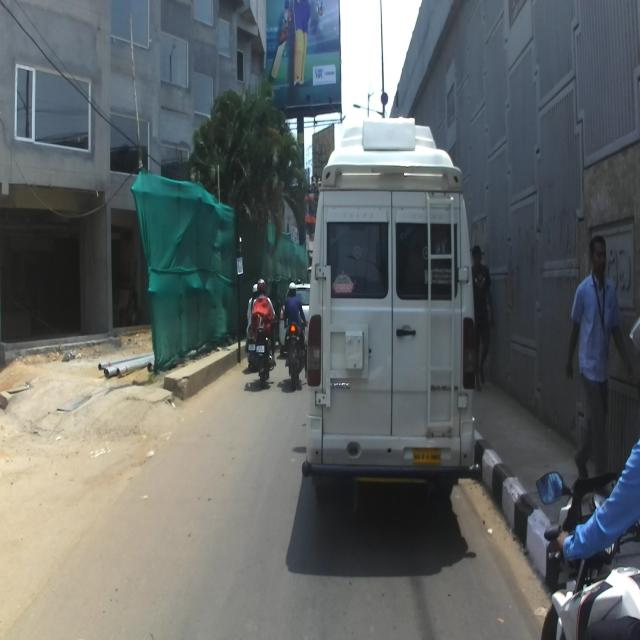mini-bus: (300, 116, 481, 497)
motorcycle: (535, 460, 639, 639)
